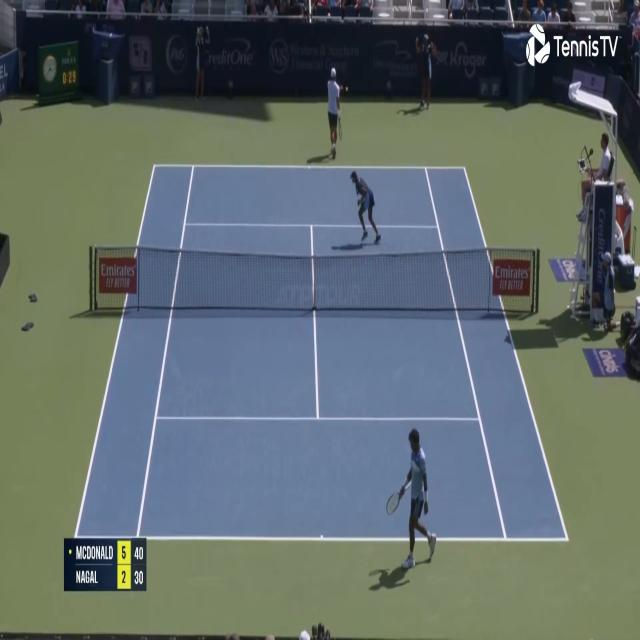tennis-player: (385, 423, 438, 573), (324, 64, 343, 160)
